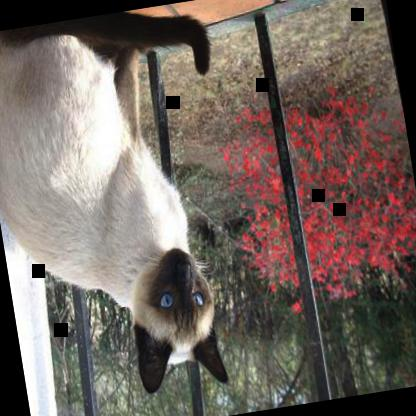cat: (0, 0, 263, 415)
